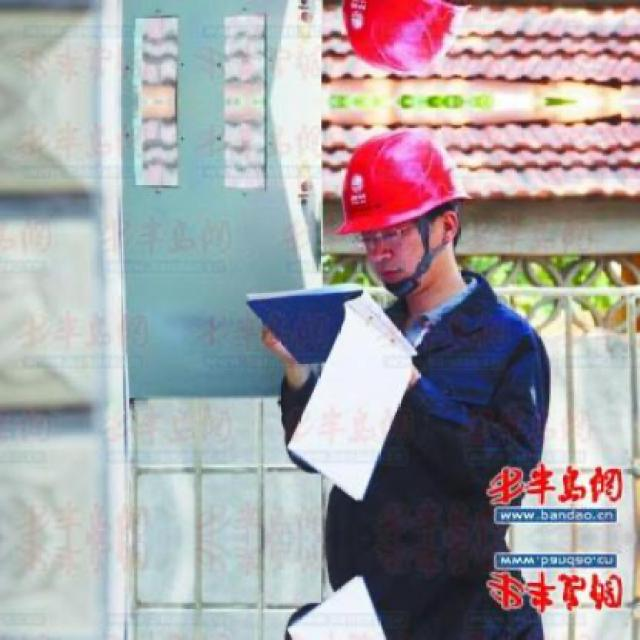helmet: (320, 116, 480, 302), (320, 0, 481, 89)
